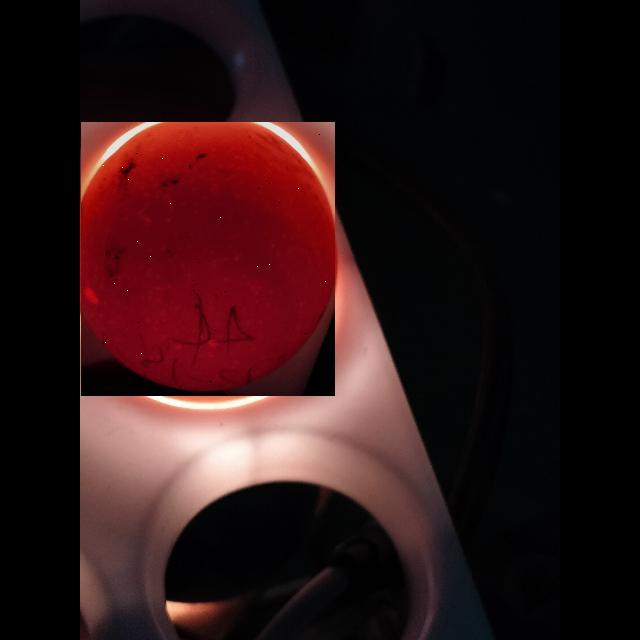Infertile: (81, 122, 335, 396)
